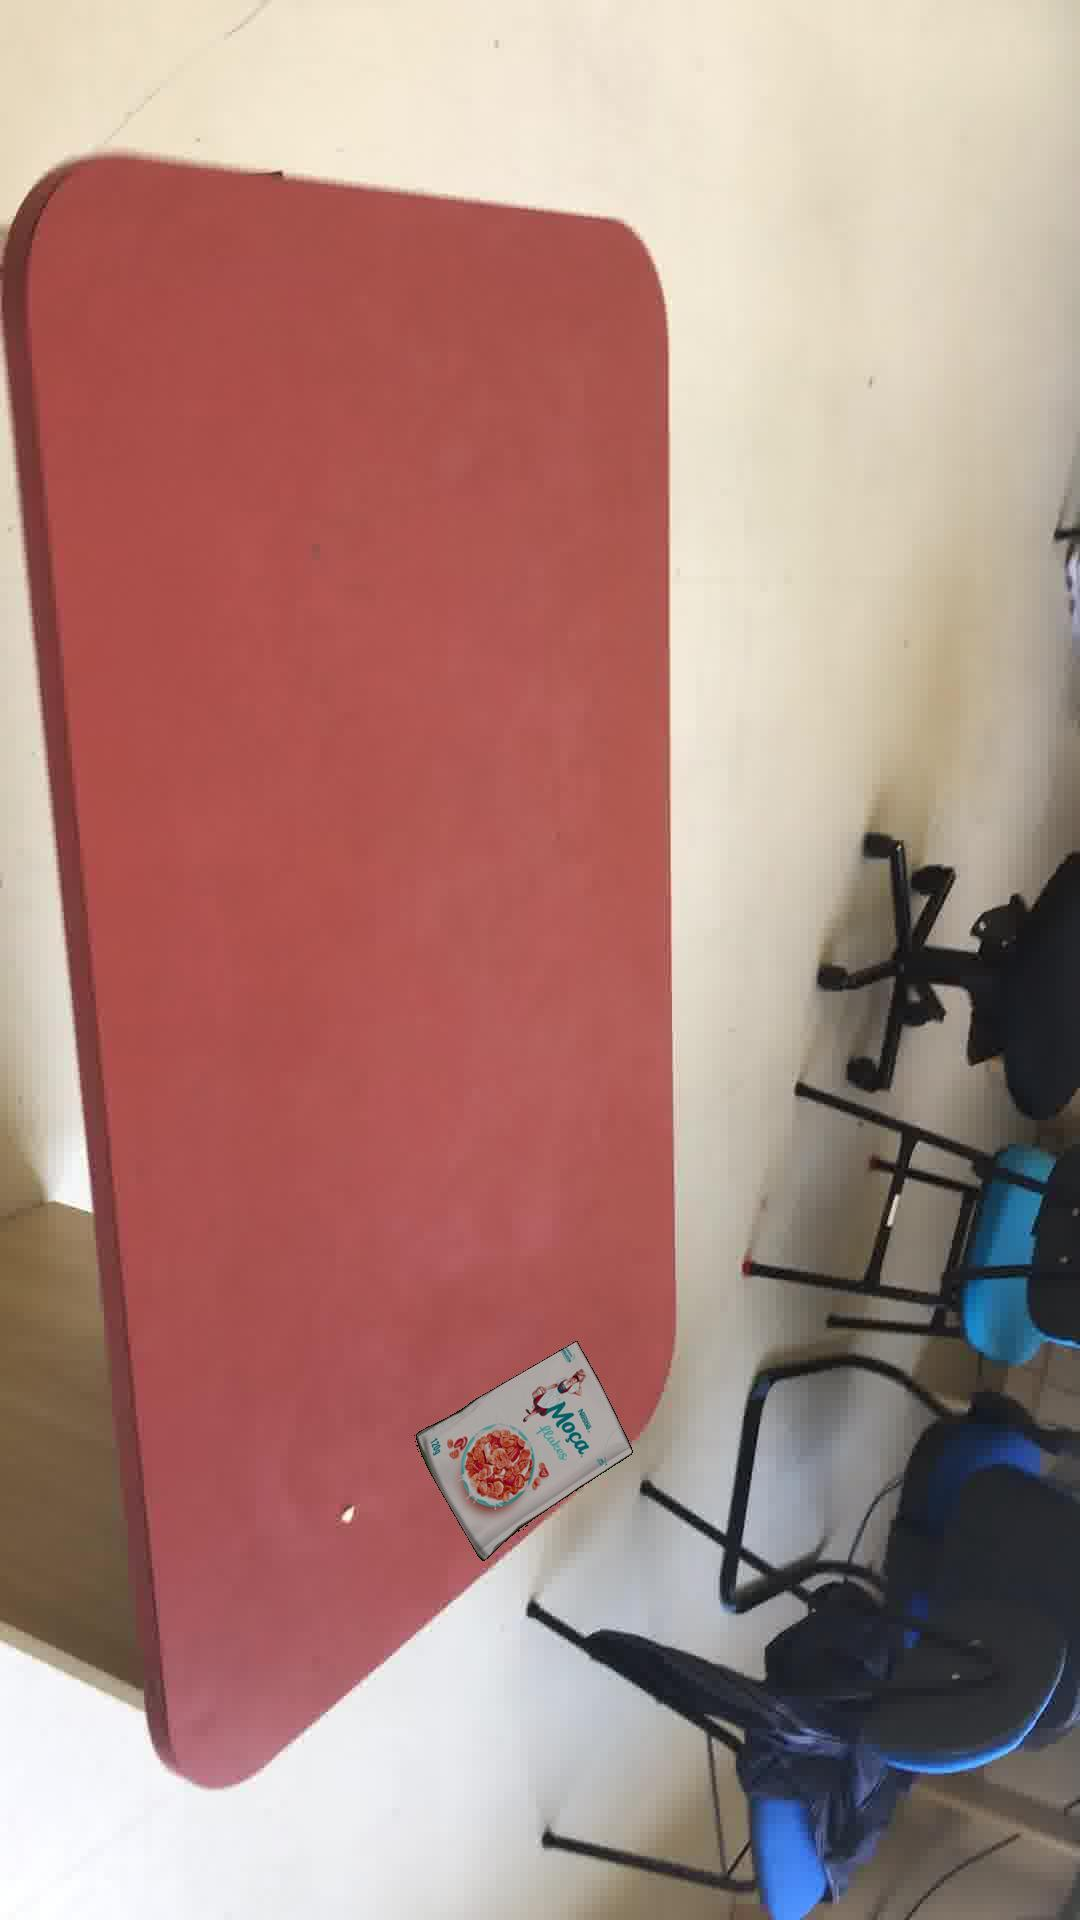corn flakes: (414, 1340, 632, 1560)
